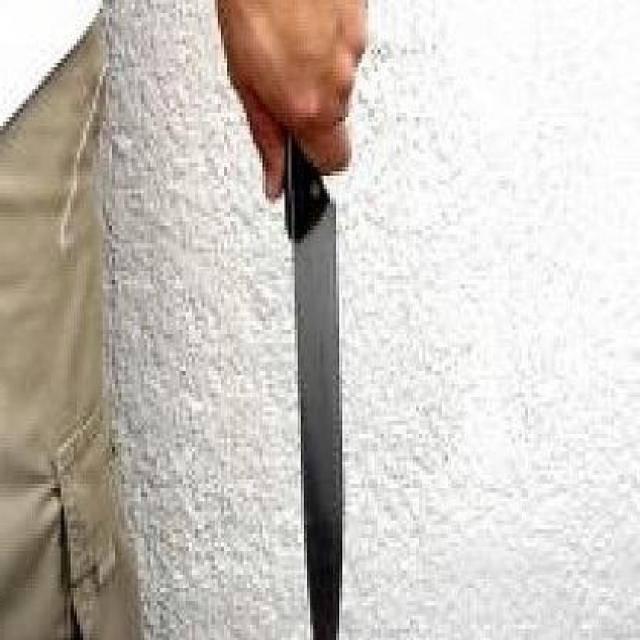Knife: (285, 135, 342, 639)
Knife_Handle: (212, 2, 396, 640)
